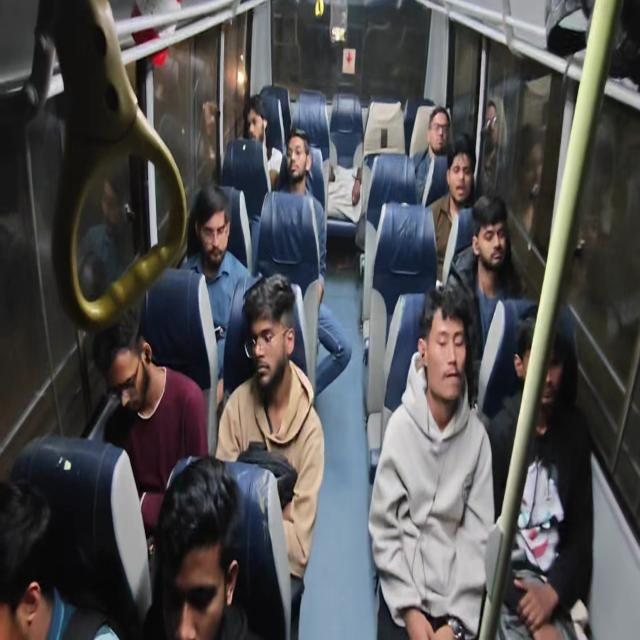person: (152, 453, 238, 640), (1, 463, 56, 640), (242, 274, 306, 418), (89, 313, 158, 422), (506, 309, 568, 402), (418, 286, 468, 400), (461, 190, 515, 277), (190, 171, 232, 273), (444, 142, 480, 204), (238, 96, 272, 152), (286, 130, 314, 193), (428, 108, 456, 158)
